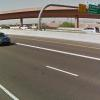Bridge: (4, 3, 94, 33)
